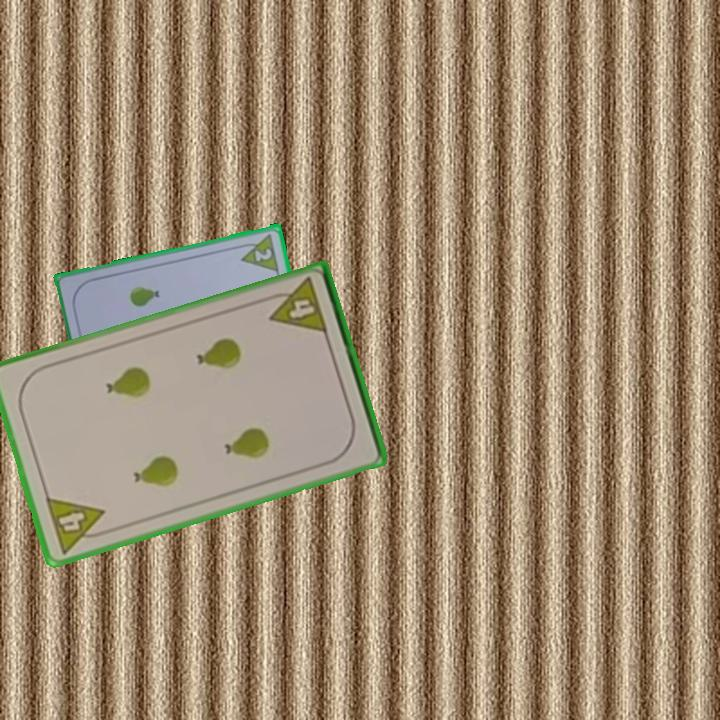2p: (235, 229, 282, 274)
4p: (42, 493, 113, 557), (261, 274, 331, 338)
